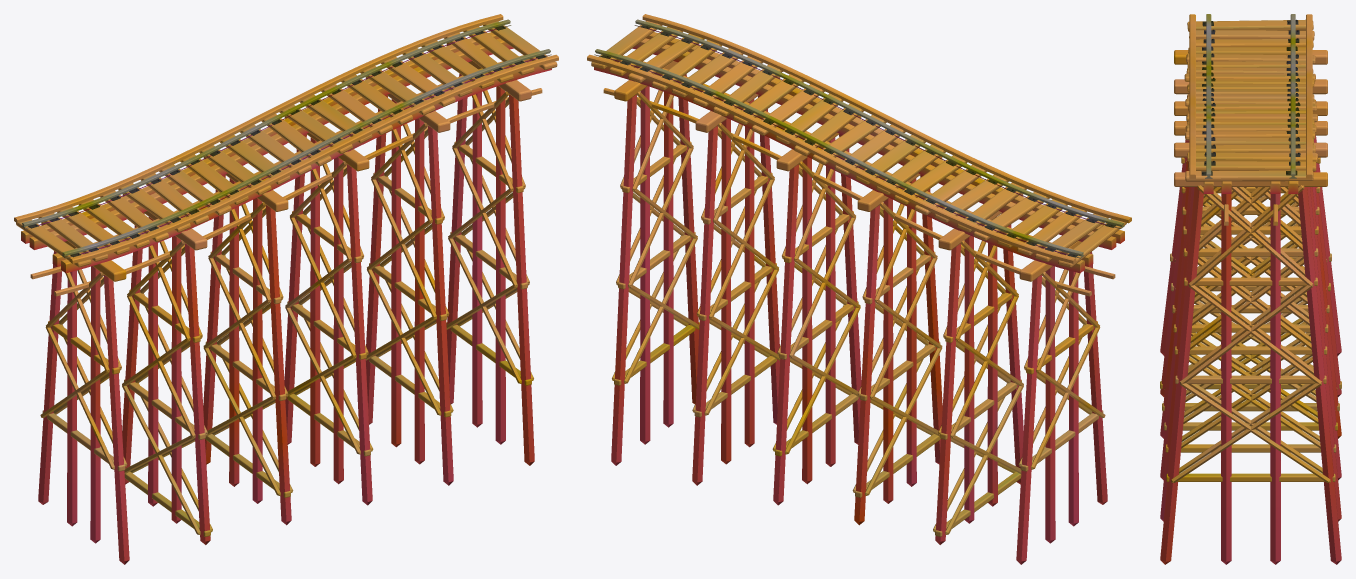
File: Track_Ramp_Up_18m_Steep.glb
The picture shows the model from 3 angles, left to right: view 1: azimuth 30°, elevation 25°; view 2: azimuth 150°, elevation 25°; view 3: azimuth 270°, elevation 25°; orthographic projection. The views are drawn at different scales.
Visible parts, largest first — view 1: Track_Ramp_Up_18m_Steep; view 2: Track_Ramp_Up_18m_Steep; view 3: Track_Ramp_Up_18m_Steep.
Boxes of the visible parts, bbox=[...] form: Track_Ramp_Up_18m_Steep: bbox=[14, 14, 558, 564]; Track_Ramp_Up_18m_Steep: bbox=[587, 14, 1131, 564]; Track_Ramp_Up_18m_Steep: bbox=[1160, 14, 1341, 564].
Size of the model in its own units: 18 by 13.85 by 5.55.
